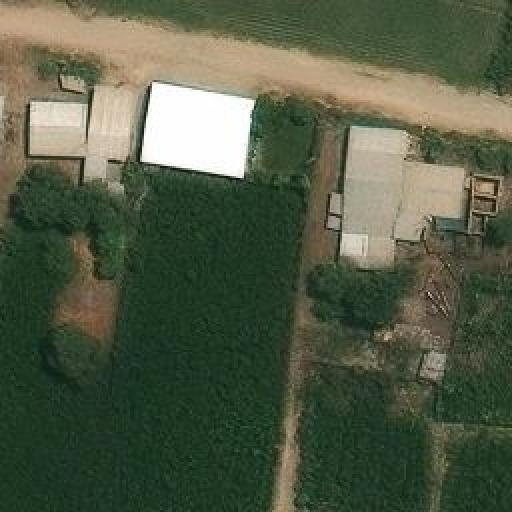manzanas: (25, 75, 265, 189), (332, 123, 509, 269)
